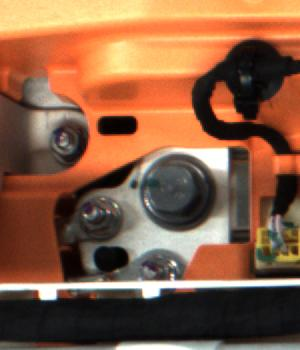nut_b: (134, 157, 214, 223)
screw_s: (77, 192, 123, 238), (135, 251, 184, 283), (45, 119, 78, 162)
